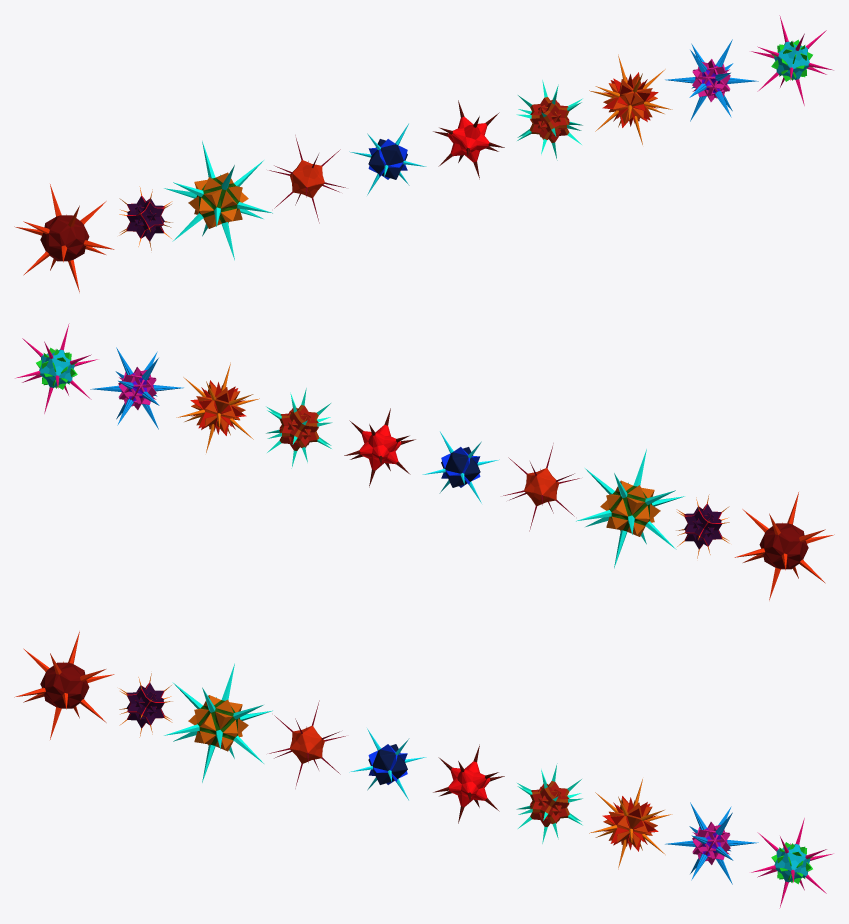
Rendered from VirusPack_02.FBX.
3 views of the same model, one above another, from view 1: azimuth 30°, elevation 25°; view 2: azimuth 150°, elevation 25°; view 3: azimuth 330°, elevation 25° (orthographic).
Parts seen in each view (by area): view 1: virus_03, virus_01, virus_08, virus_07, virus_09, virus_10, virus_06, virus_05, virus_02, virus_04; view 2: virus_03, virus_01, virus_08, virus_07, virus_09, virus_10, virus_06, virus_05, virus_02, virus_04; view 3: virus_03, virus_01, virus_08, virus_07, virus_09, virus_10, virus_06, virus_05, virus_02, virus_04.
Boxes of the visible parts, x1=… form: virus_03: x1=164, y1=141, x2=272, y2=260; virus_01: x1=14, y1=184, x2=114, y2=292; virus_08: x1=589, y1=54, x2=672, y2=144; virus_07: x1=516, y1=80, x2=582, y2=160; virus_09: x1=665, y1=39, x2=758, y2=121; virus_10: x1=751, y1=15, x2=833, y2=105; virus_06: x1=433, y1=100, x2=504, y2=179; virus_05: x1=349, y1=123, x2=426, y2=195; virus_02: x1=119, y1=186, x2=172, y2=250; virus_04: x1=269, y1=135, x2=345, y2=223; virus_03: x1=576, y1=449, x2=684, y2=568; virus_01: x1=734, y1=492, x2=834, y2=600; virus_08: x1=176, y1=362, x2=259, y2=452; virus_07: x1=266, y1=388, x2=332, y2=468; virus_09: x1=90, y1=347, x2=183, y2=429; virus_10: x1=15, y1=323, x2=97, y2=413; virus_06: x1=344, y1=408, x2=415, y2=487; virus_05: x1=422, y1=431, x2=499, y2=503; virus_02: x1=676, y1=494, x2=729, y2=558; virus_04: x1=503, y1=443, x2=579, y2=531; virus_03: x1=164, y1=663, x2=272, y2=782; virus_01: x1=14, y1=631, x2=114, y2=739; virus_08: x1=589, y1=779, x2=672, y2=869; virus_07: x1=516, y1=763, x2=582, y2=843; virus_09: x1=665, y1=802, x2=758, y2=884; virus_10: x1=751, y1=818, x2=833, y2=908; virus_06: x1=433, y1=744, x2=504, y2=823; virus_05: x1=349, y1=728, x2=426, y2=800; virus_02: x1=119, y1=673, x2=172, y2=737; virus_04: x1=269, y1=700, x2=345, y2=788.
Bounding box in the file's own units: 399 × 46.2 × 46.2.
